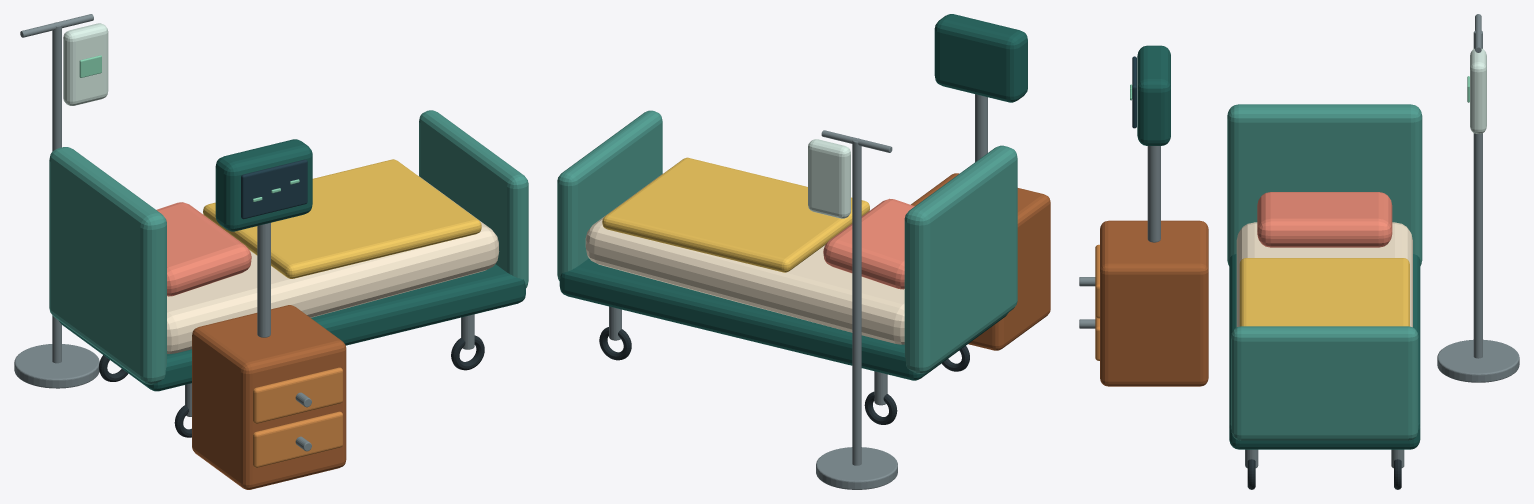
The model's file is bed.glb.
3 renders of one model, left to right at view 1: azimuth 30°, elevation 25°; view 2: azimuth 150°, elevation 25°; view 3: azimuth 270°, elevation 25°, orthographic. The views are drawn at different scales.
Visible parts, largest first — view 1: Headboard, Bedside_Carcass, Blanket, Mattress, Footboard, Bed_Frame, Pillow, Monitor_Body, Bedside_Drawer_1, Bedside_Drawer_2, IV_Bag, IV_Base (+5 smaller); view 2: Headboard, Blanket, Mattress, Bed_Frame, Footboard, Monitor_Body, Bedside_Carcass, Pillow, IV_Pole, IV_Bag, IV_Base, Monitor_Pole (+2 smaller); view 3: Footboard, Headboard, Bedside_Carcass, Blanket, Pillow, Bed_Frame, Mattress, Monitor_Body, IV_Base, IV_Pole, IV_Bag, Monitor_Pole.
Boxes of the visible parts, x1,y1,x2,y2 form: Headboard: (49,147,166,384); Bedside_Carcass: (192,305,346,489); Blanket: (203,159,481,278); Mattress: (167,176,499,353); Footboard: (419,110,528,287); Bed_Frame: (59,264,525,391); Pillow: (156,202,251,296); Monitor_Body: (215,139,312,231); Bedside_Drawer_1: (253,367,342,423); Bedside_Drawer_2: (253,411,342,467); IV_Bag: (63,23,108,105); IV_Base: (14,344,99,388); Headboard: (904,145,1017,373); Blanket: (602,157,869,272); Mattress: (585,174,904,344); Bed_Frame: (559,258,1008,380); Footboard: (557,110,662,281); Monitor_Body: (934,14,1027,102); Bedside_Carcass: (911,173,1050,350); Pillow: (823,198,914,289); IV_Pole: (852,138,861,465); IV_Bag: (808,139,850,218); IV_Base: (816,447,897,489); Monitor_Pole: (975,94,987,161); Footboard: (1231,326,1418,440); Headboard: (1227,104,1422,265); Bedside_Carcass: (1100,220,1208,386); Blanket: (1239,258,1409,326); Pillow: (1257,192,1392,247); Bed_Frame: (1229,254,1420,449); Mattress: (1236,222,1412,327); Monitor_Body: (1137,45,1170,145); IV_Base: (1437,339,1519,382); IV_Pole: (1473,30,1482,358); IV_Bag: (1470,48,1486,133); Monitor_Pole: (1147,146,1160,242).
Size of the model in its own units: 2.31 by 1.98 by 2.35.
